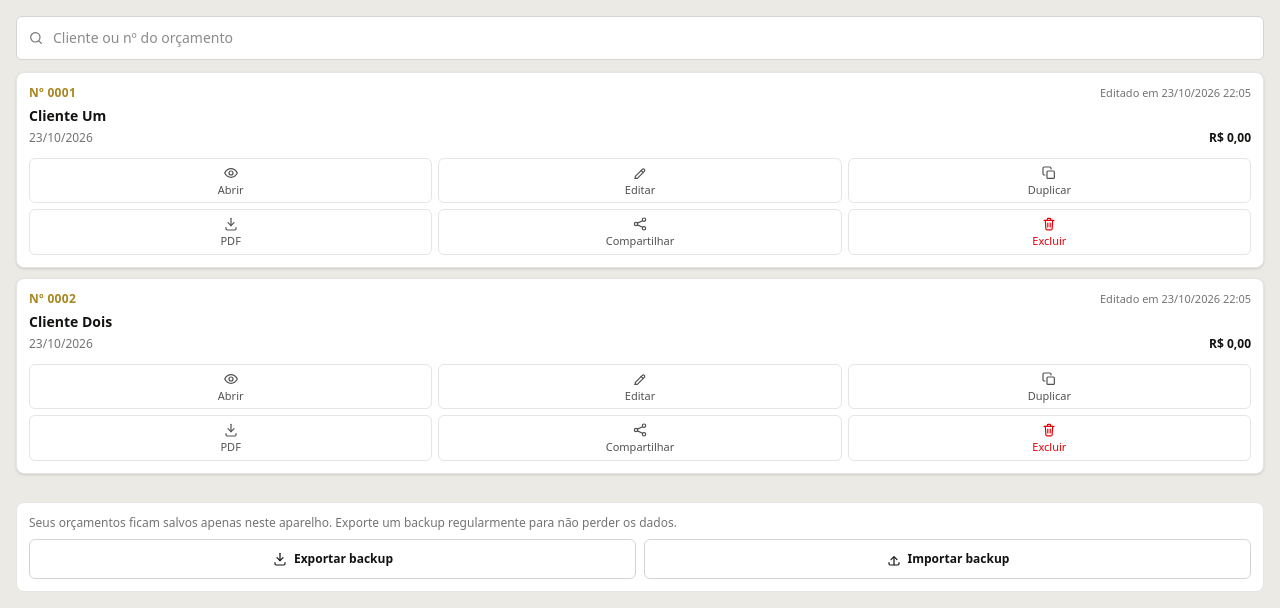
HistoryScreen › busca pelo número do orçamento
The image size is (1280, 608).
Type "0002" into the search field with placeholder "Cliente ou nº do orçamento" at (640, 38), box [16, 16, 1264, 60]
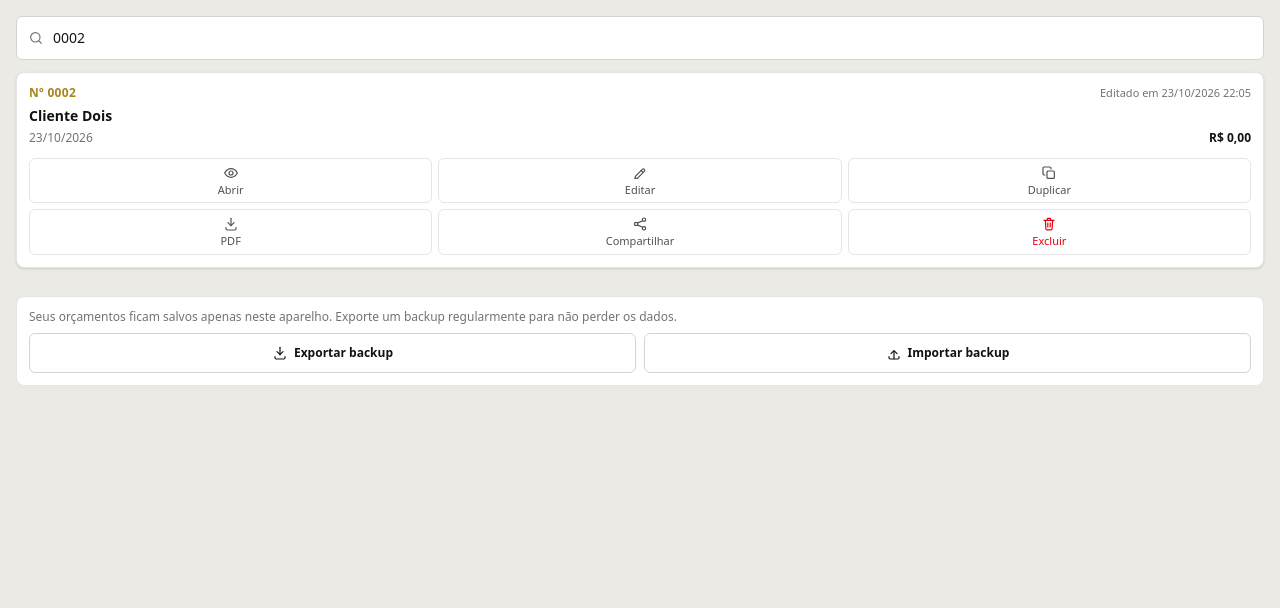
Expected: the text "Cliente Dois" is shown, [29, 106, 112, 126]
Now the button "Cliente Um" is gone
